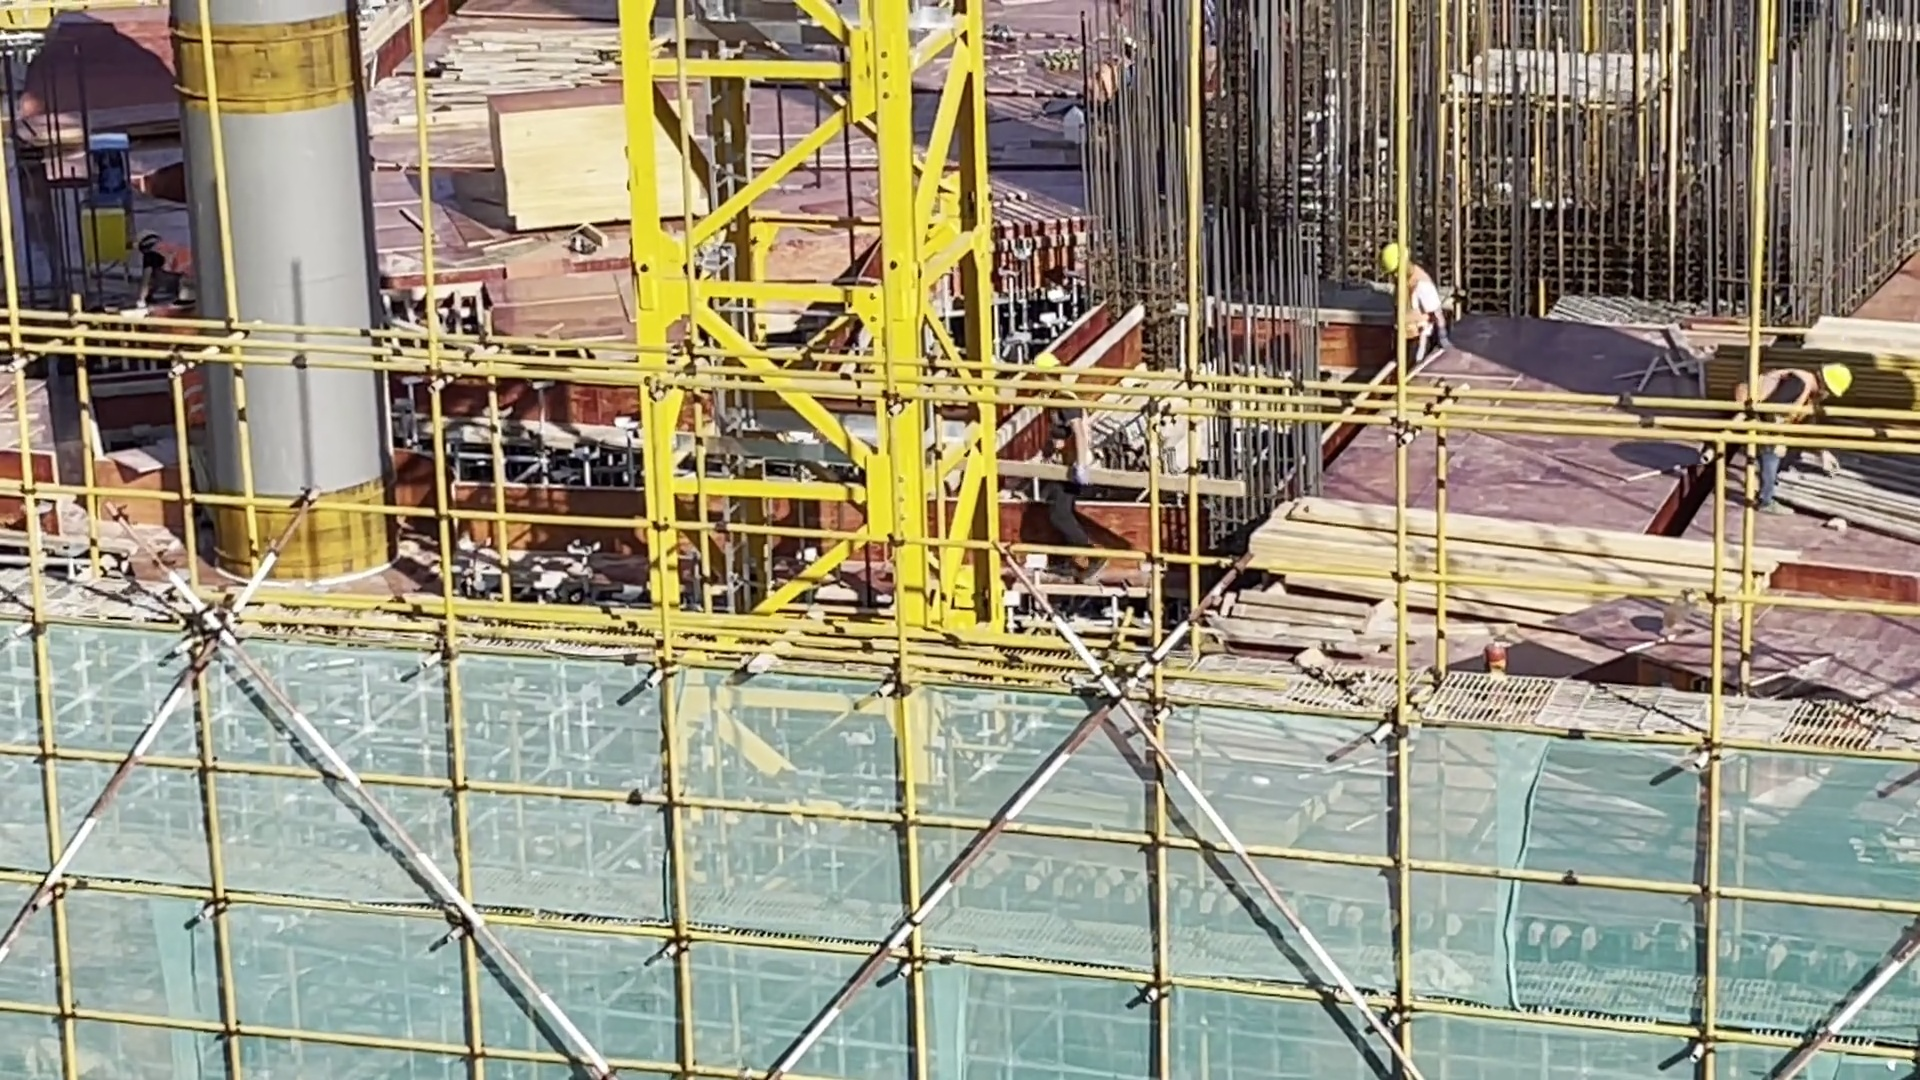helmet: (1381, 241, 1416, 282), (1812, 361, 1846, 401), (126, 229, 155, 255)
person: (1717, 369, 1849, 517), (1378, 240, 1451, 388), (117, 218, 206, 322)
vest: (1745, 370, 1818, 438), (1400, 270, 1443, 348), (155, 241, 199, 289)
